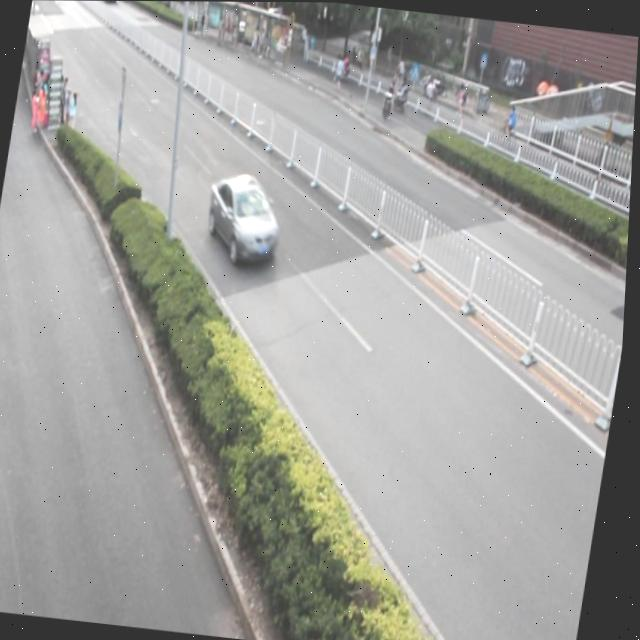car: (202, 166, 289, 270)
